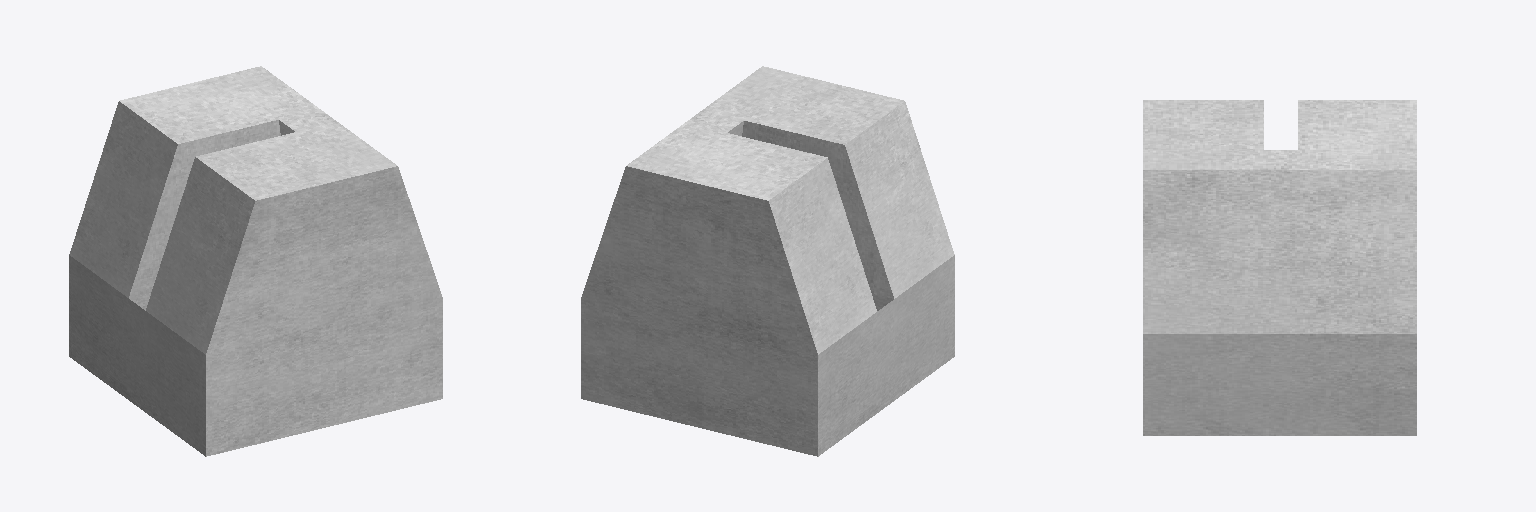
3 views of the same model, side by side, from view 1: azimuth 30°, elevation 25°; view 2: azimuth 150°, elevation 25°; view 3: azimuth 270°, elevation 25° (orthographic).
Visible parts, largest first — view 1: Cube; view 2: Cube; view 3: Cube.
Boxes of the visible parts, <box> form: Cube: <box>69,66,442,456</box>; Cube: <box>581,66,954,456</box>; Cube: <box>1143,100,1416,435</box>.
Size of the model in its own units: 2 by 1.97 by 2.
1 materials, 1 textured.